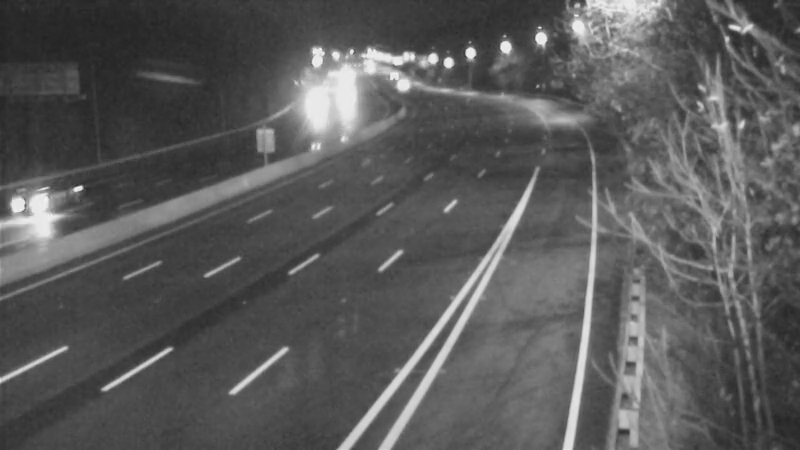vehicle: (1, 161, 81, 241), (377, 56, 427, 106), (289, 76, 339, 126), (318, 72, 368, 122)
